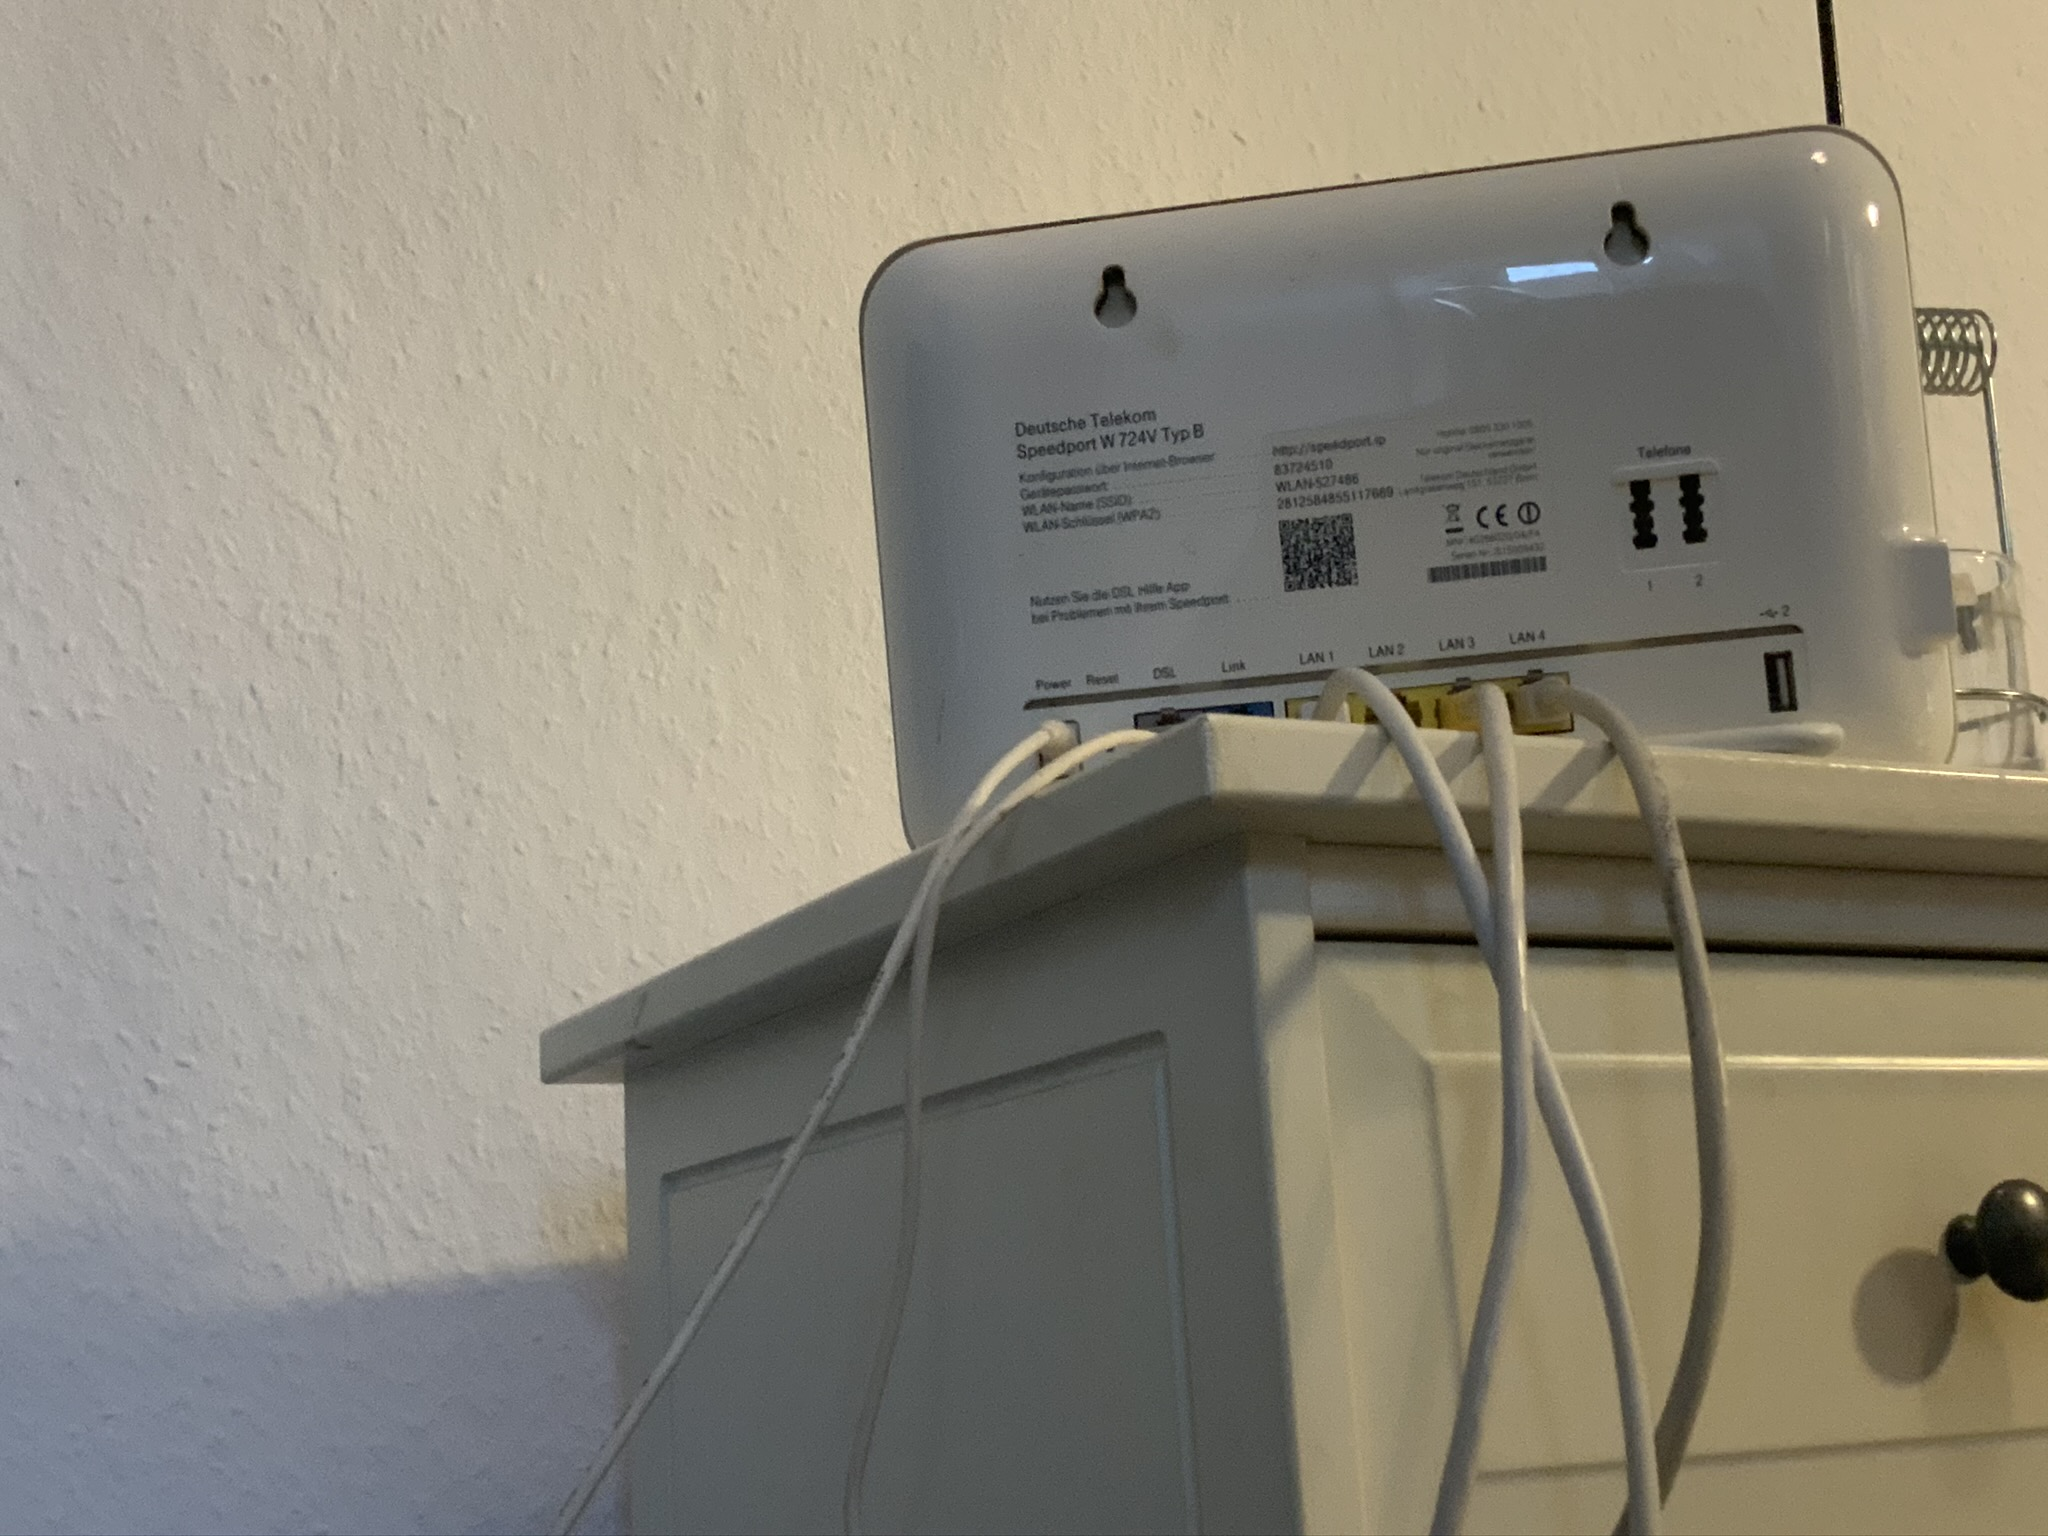router: (851, 123, 1966, 860)
